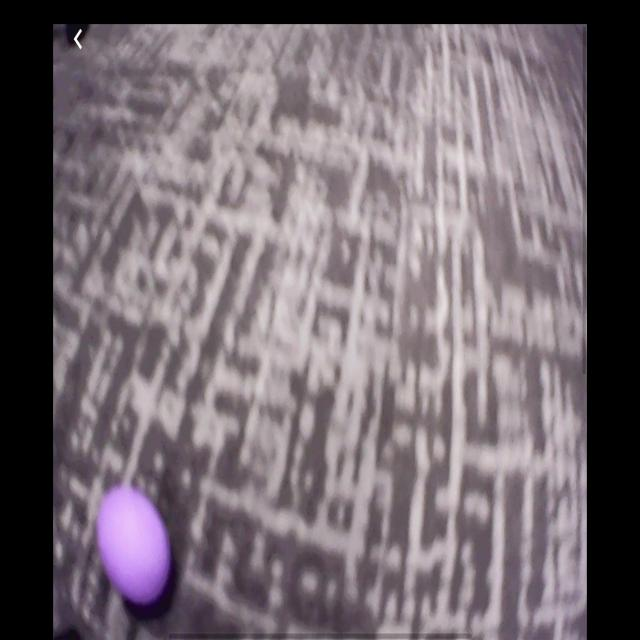ball: (96, 483, 176, 613)
